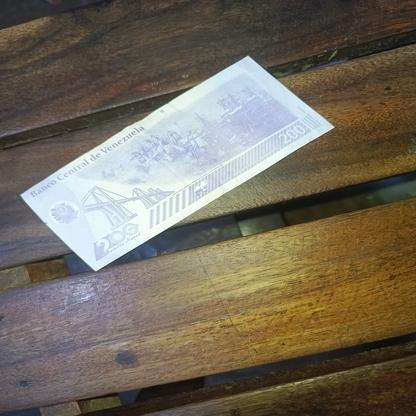two_hundred-back-vef: (19, 55, 335, 272)
